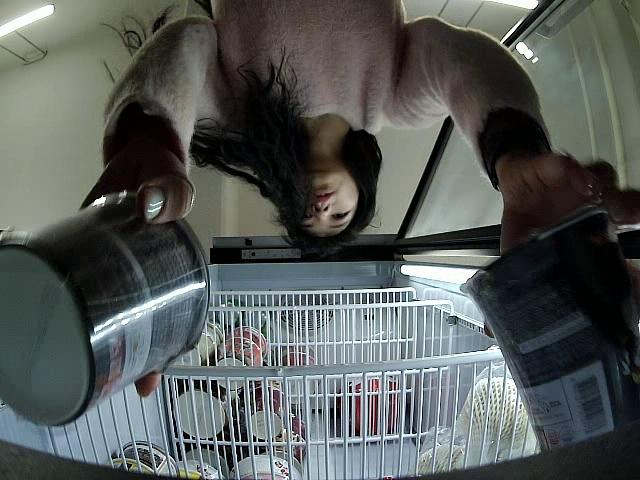00_hand: (483, 145, 640, 338), (77, 153, 195, 399)
08_buldak_S: (0, 192, 211, 427), (459, 201, 640, 455)
